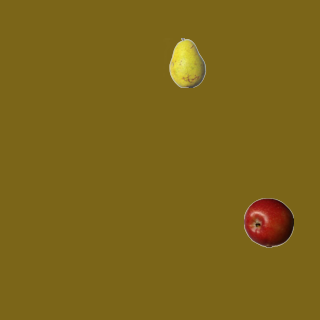Apple Braeburn: (243, 197, 293, 247)
Pear Monster: (162, 37, 212, 87)
